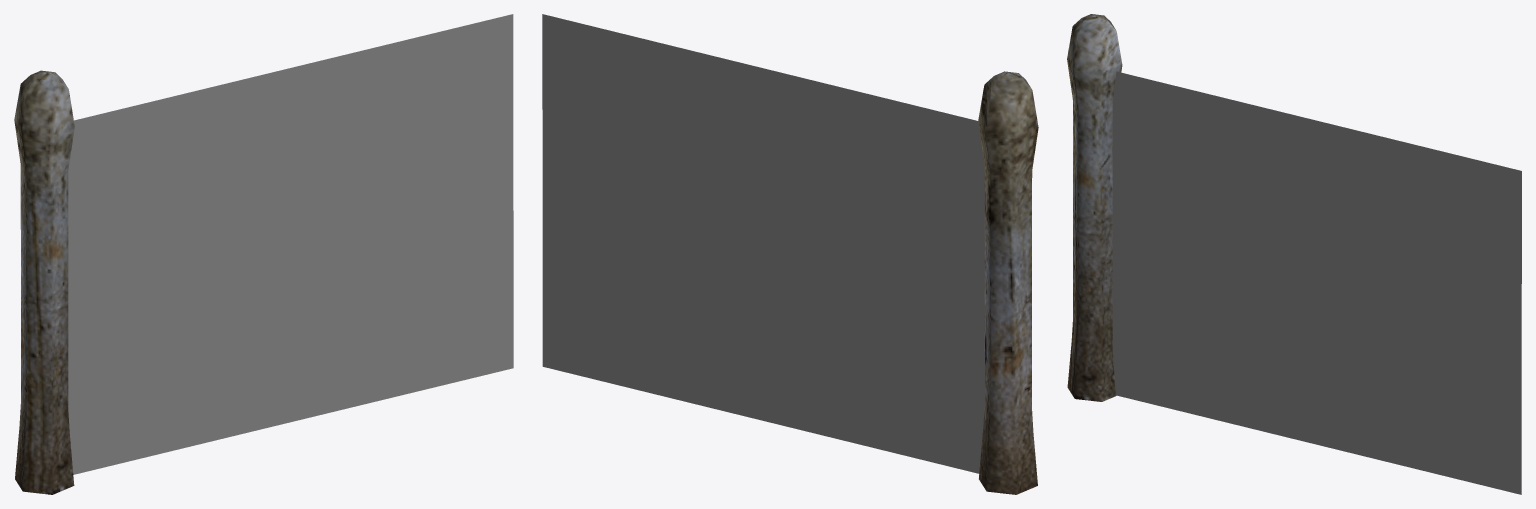
The model's file is Gate.FBX.
3 views of the same model, side by side, from view 1: azimuth 30°, elevation 25°; view 2: azimuth 150°, elevation 25°; view 3: azimuth 330°, elevation 25° (orthographic). The views are drawn at different scales.
Parts seen in each view (by area): view 1: Object001, Gate_Low; view 2: Object001, Gate_Low; view 3: Object001, Gate_Low.
Part boxes in pixels (x1,y1,x2,y2): Object001: [68, 14, 513, 474]; Gate_Low: [14, 70, 74, 494]; Object001: [542, 14, 984, 473]; Gate_Low: [978, 71, 1038, 494]; Object001: [1112, 71, 1521, 494]; Gate_Low: [1067, 14, 1122, 401].
Bounding box in the file's own units: 124 × 98.65 × 13.21.
